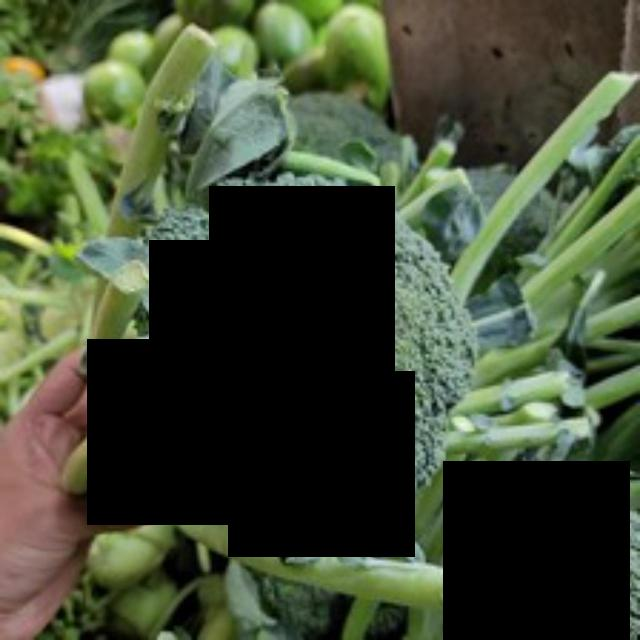broccoli: (140, 201, 470, 559)
